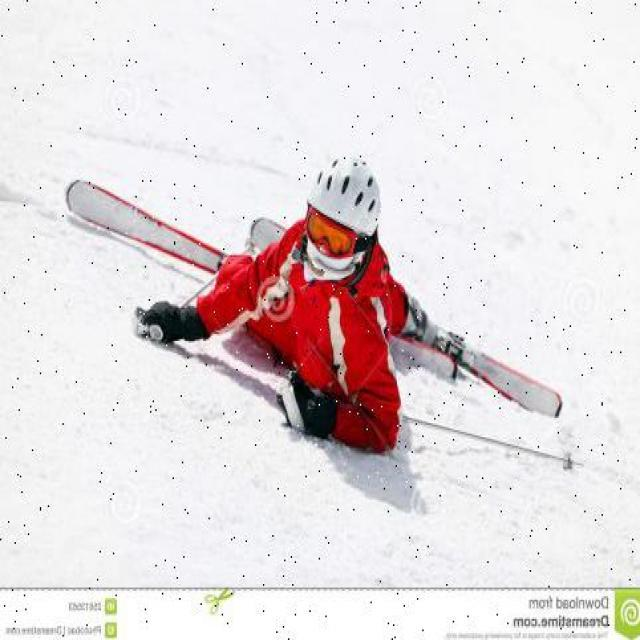fall: (148, 149, 460, 446)
